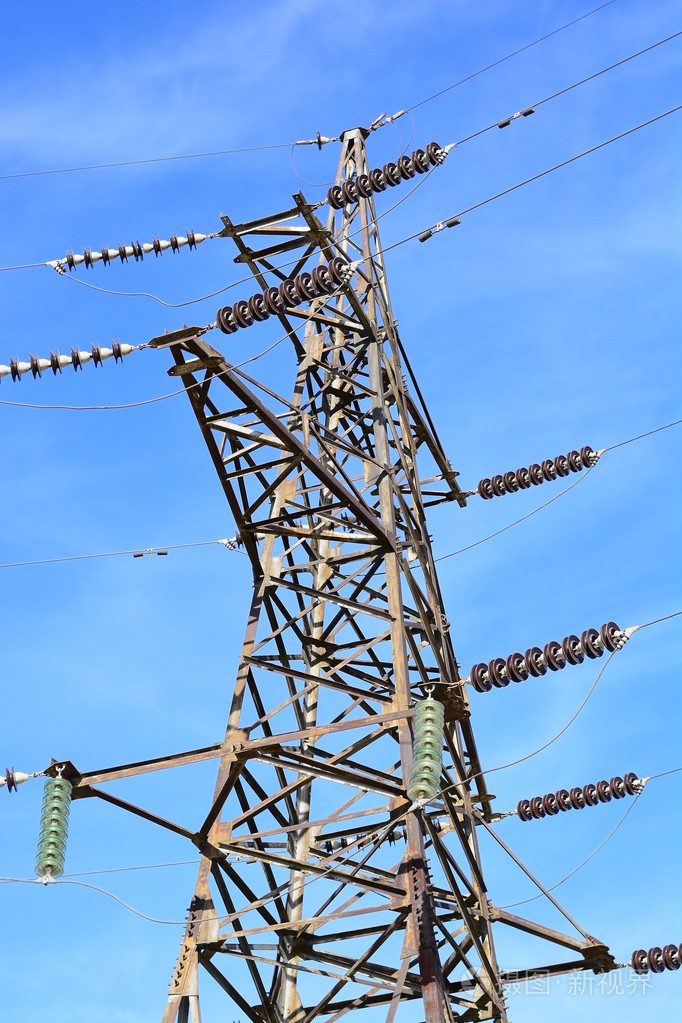insulator: (215, 258, 355, 334), (469, 622, 621, 692), (325, 139, 446, 207), (473, 443, 594, 498), (518, 772, 640, 820), (408, 701, 446, 803), (36, 779, 71, 876), (631, 944, 682, 975)
